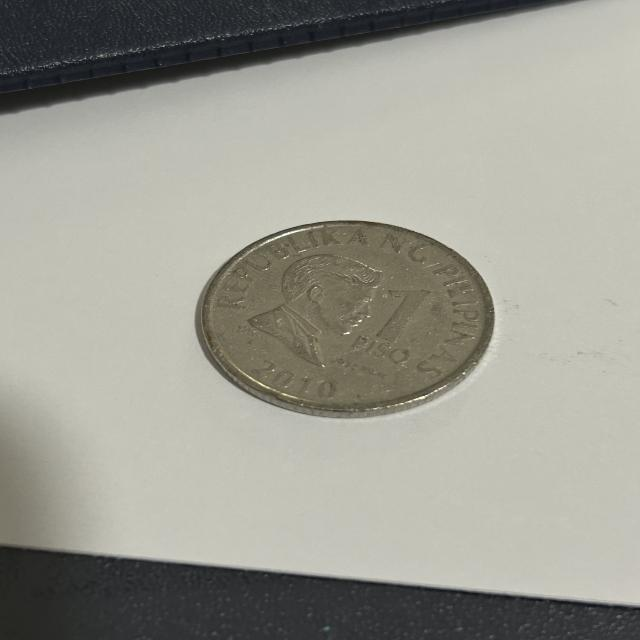1_Old_Front: (360, 284, 423, 362)
